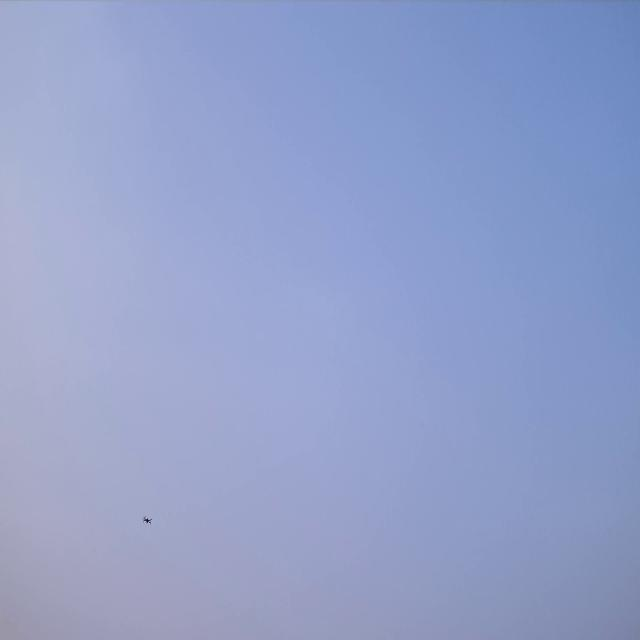UAV: (141, 514, 153, 526)
